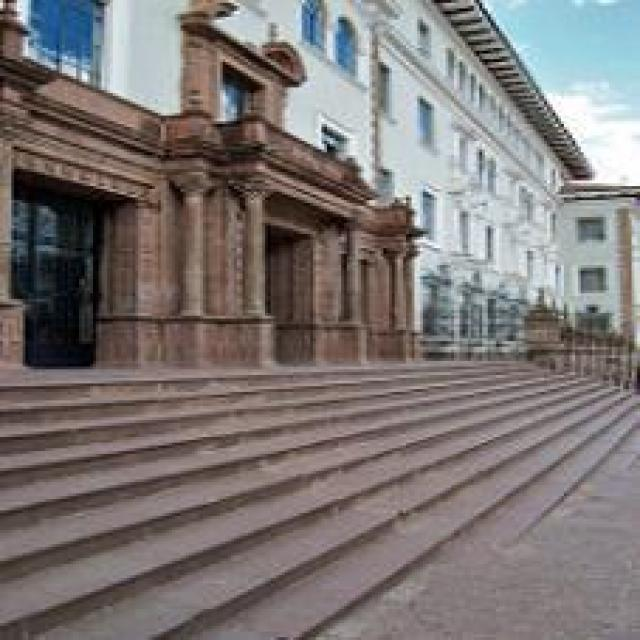upstair: (52, 365, 455, 610)
